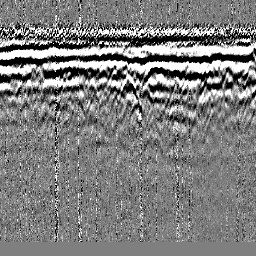cavity: (115, 74, 139, 104)
